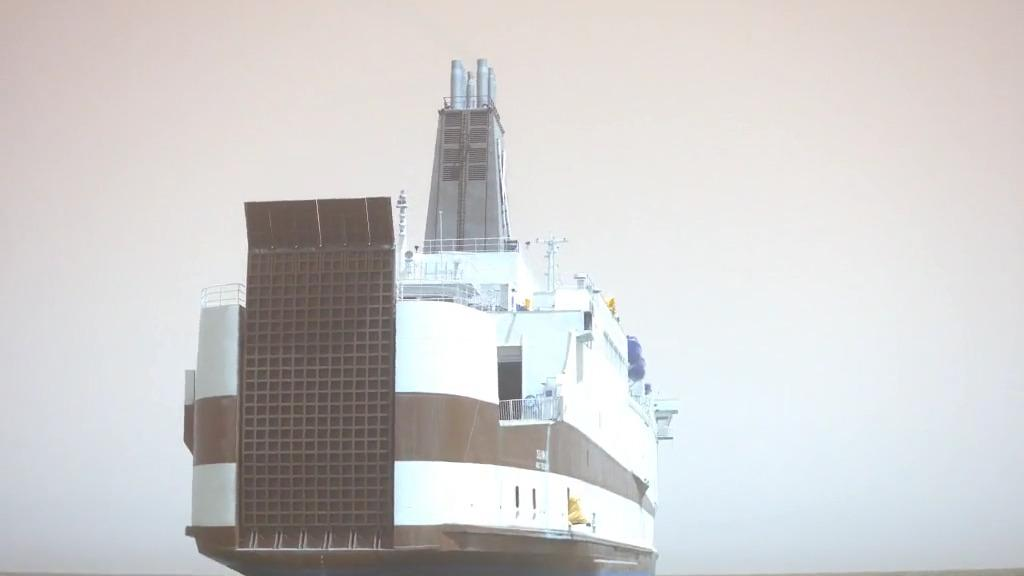PassengerShip: (174, 52, 690, 576)
